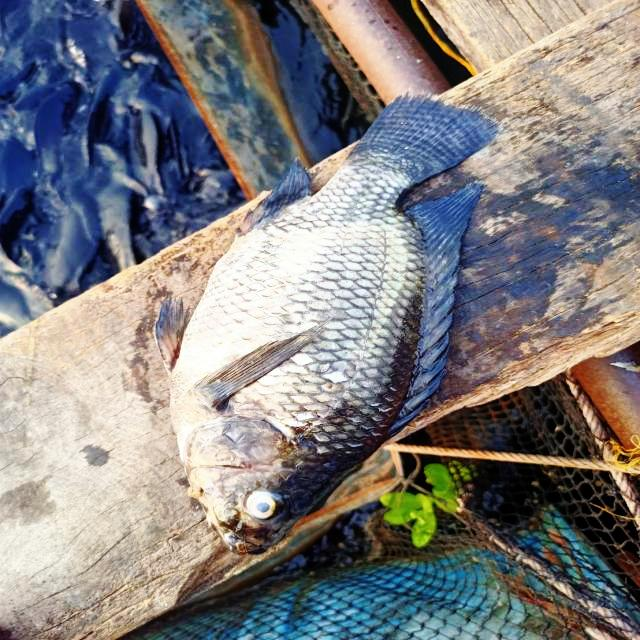Aeromonas Septicemia: (156, 99, 496, 552), (173, 95, 496, 551), (173, 95, 496, 550)
